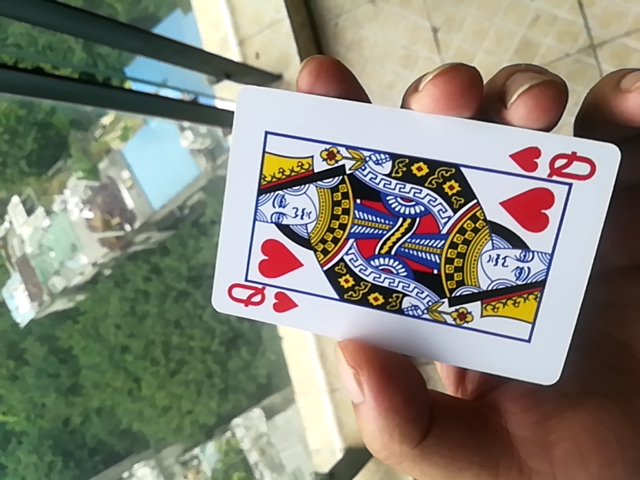hx q: (203, 79, 621, 389)
